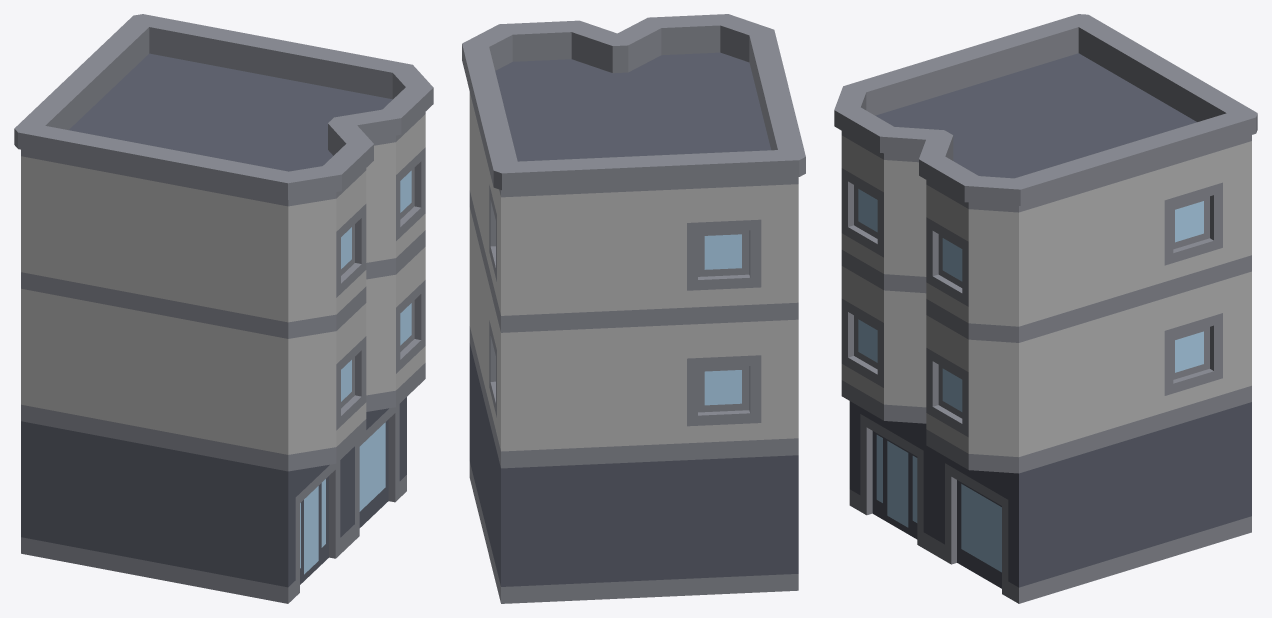
File: variant_30.fbx
3 views of the same model, side by side, from view 1: azimuth 30°, elevation 25°; view 2: azimuth 150°, elevation 25°; view 3: azimuth 270°, elevation 25° (orthographic). The views are drawn at different scales.
Parts seen in each view (by area): view 1: small_buildingA; view 2: small_buildingA; view 3: small_buildingA.
Part boxes in pixels (<box>): small_buildingA: <box>14,14,433,603</box>; small_buildingA: <box>462,14,805,603</box>; small_buildingA: <box>834,14,1257,603</box>.
Bounding box in the file's own units: 115 × 128 × 118.
